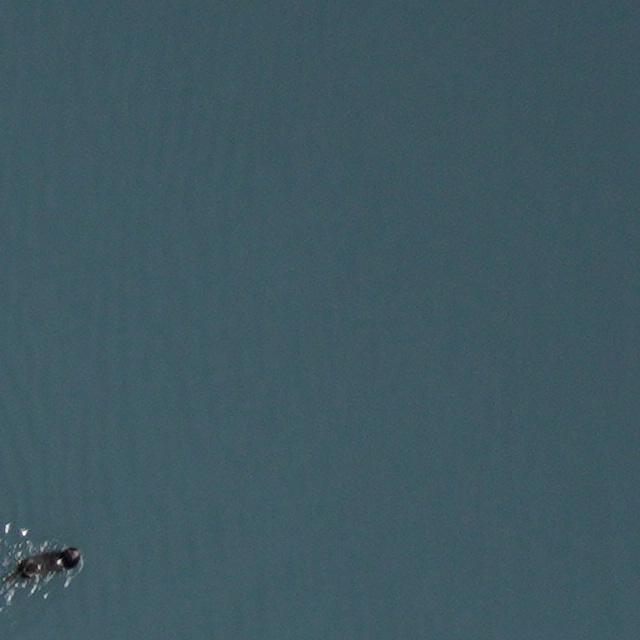seal: (1, 539, 84, 592)
